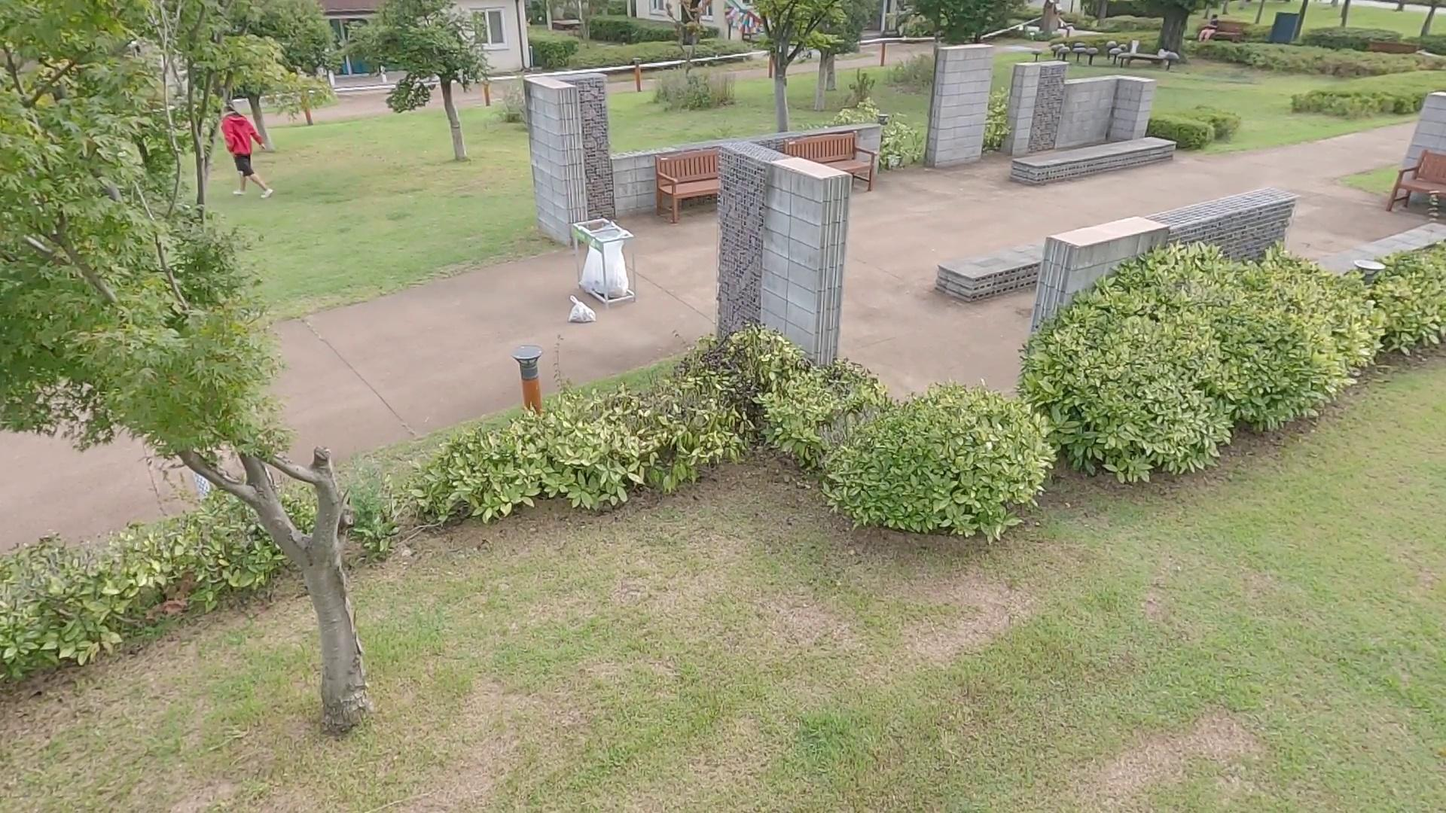person: (219, 101, 276, 203)
trash: (567, 293, 599, 328)
